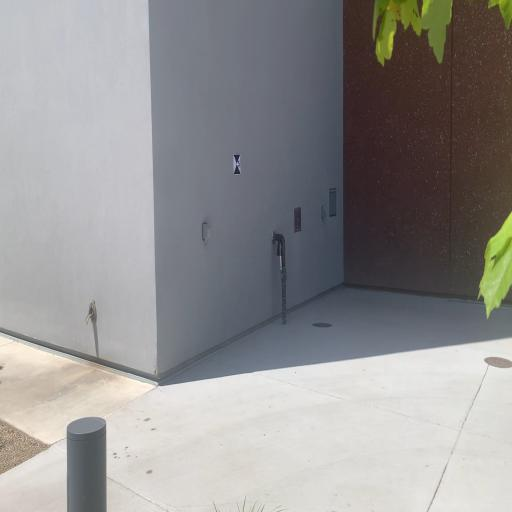target5: (233, 153, 241, 175)
